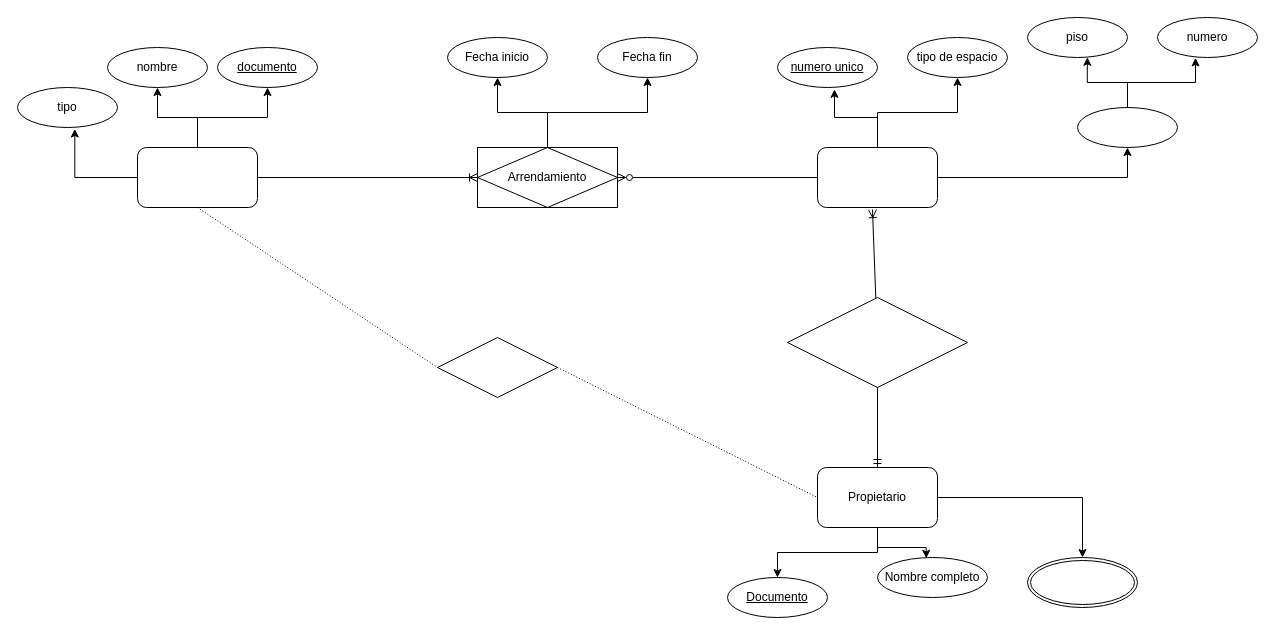
The diagram is 1275 pixels wide and 635 high, and some of its shapes have lost their labels. The shapes that lost their labels are listed below. From the top down, each one's centre as x and y in pixels, then its label:
At (1127,127): "Ubicacion".
At (197,177): "Arrendatario".
At (877,177): "Espacio de parqueo".
At (877,342): "pertenece / es dueño de".
At (497,367): "arrienda".
At (1082,582): "Numeros de contacto".
